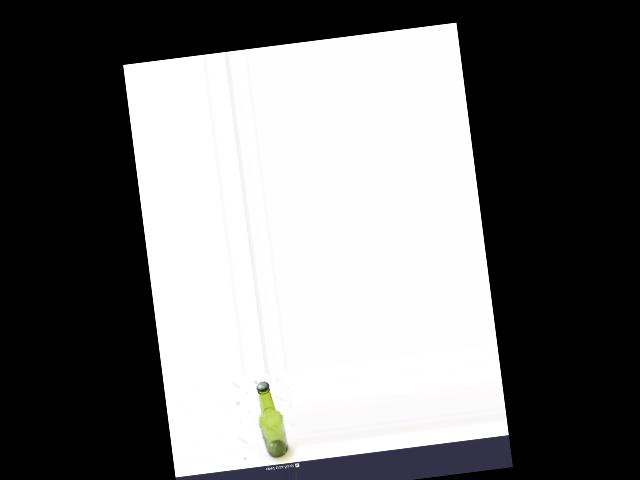beer: (255, 379, 288, 458)
